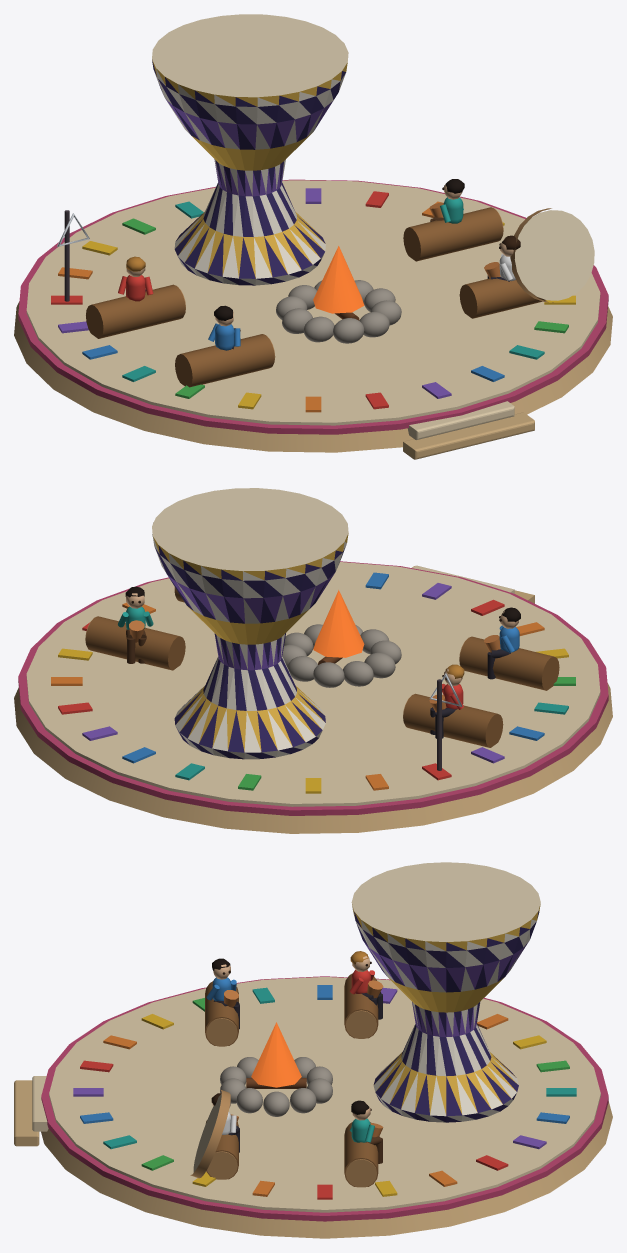
Rendered from drumCircle.glb.
3 renders of one model, top to bottom at view 1: azimuth 30°, elevation 25°; view 2: azimuth 150°, elevation 25°; view 3: azimuth 270°, elevation 25°, orthographic. The views are drawn at different scales.
Visible parts, largest first — view 1: part_000, part_001, part_002; view 2: part_000, part_001, part_002; view 3: part_000, part_001, part_002.
Part boxes in pixels (x1,y1,x2,y2): part_000: (14, 179, 612, 459); part_001: (152, 14, 348, 285); part_002: (313, 246, 364, 313); part_000: (14, 522, 612, 833); part_001: (152, 488, 348, 759); part_002: (313, 590, 364, 657); part_000: (14, 951, 612, 1238); part_001: (351, 862, 540, 1122); part_002: (251, 1022, 301, 1087).
Bounding box in the file's own units: 9.5 × 3.93 × 9.88.
